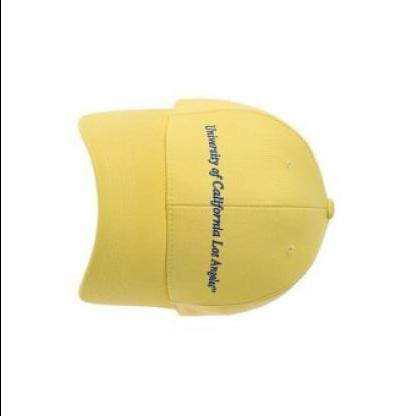cap: (70, 78, 340, 334)
